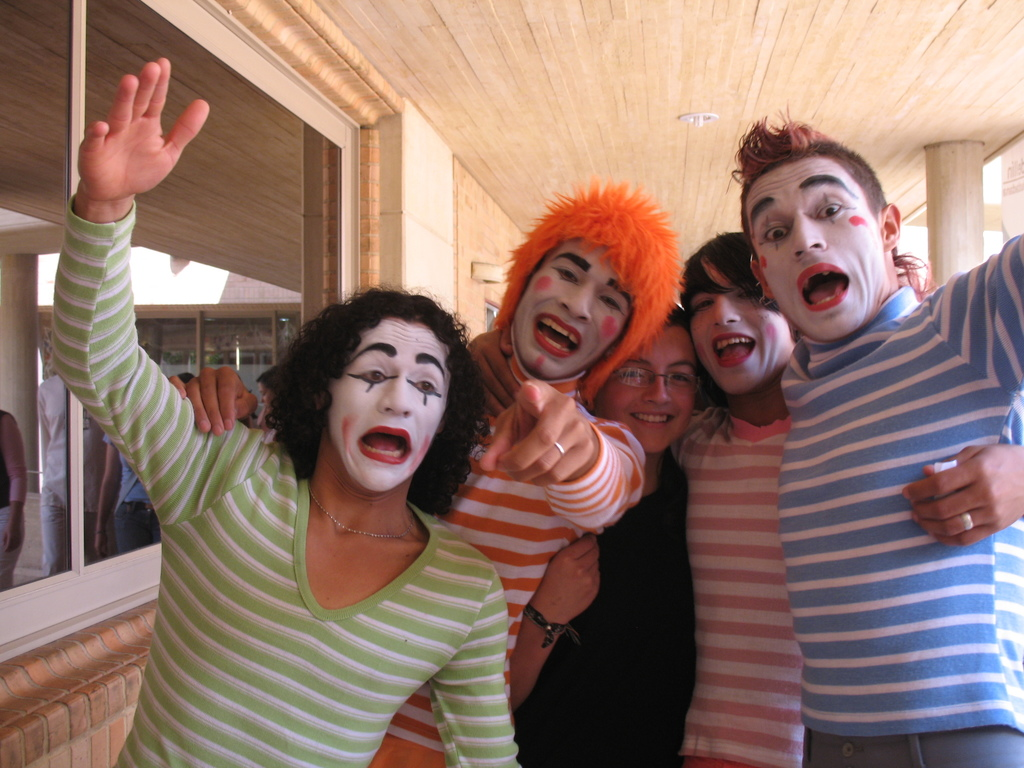face: (519, 230, 635, 377)
